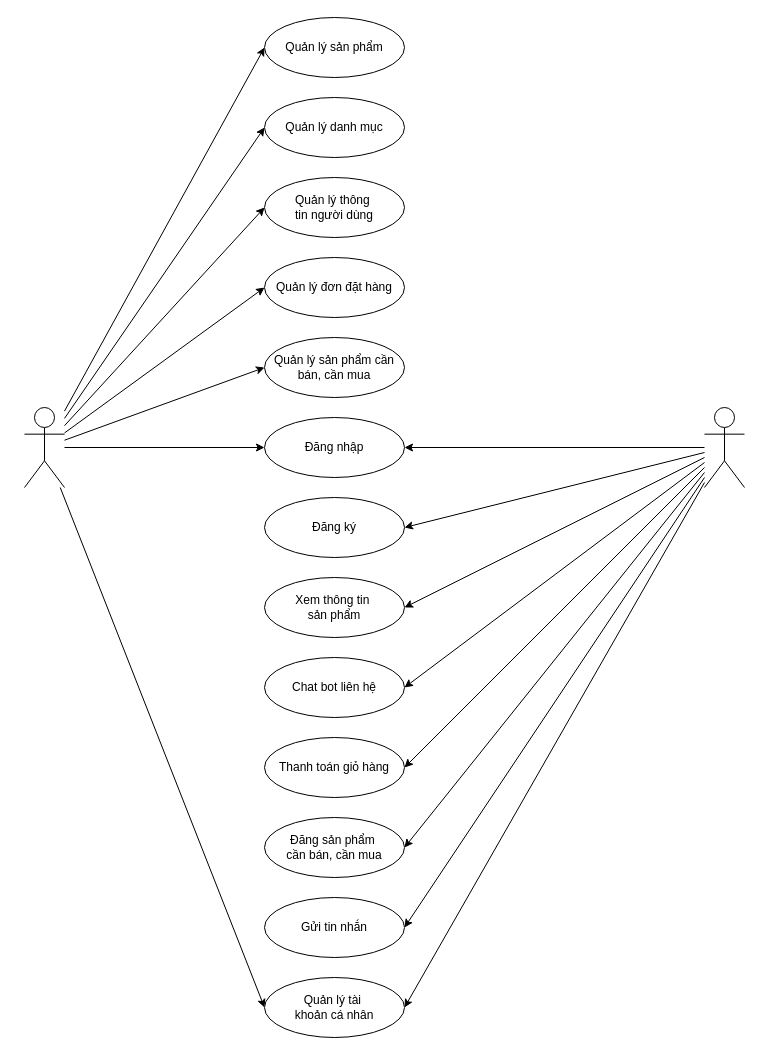
The diagram is 773 pixels wide and 1055 high, and some of its shapes have lost their labels. The shapes that lost their labels are listed below. From the top down, each one's centre as x and y in pixels, then its label:
At (44,447): "Nhân viên".
At (724,447): "Người dùng".
